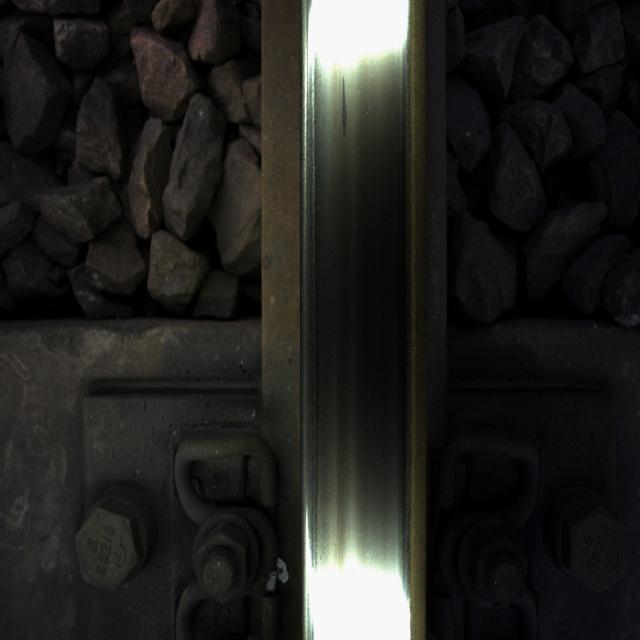break: (314, 19, 405, 606)
